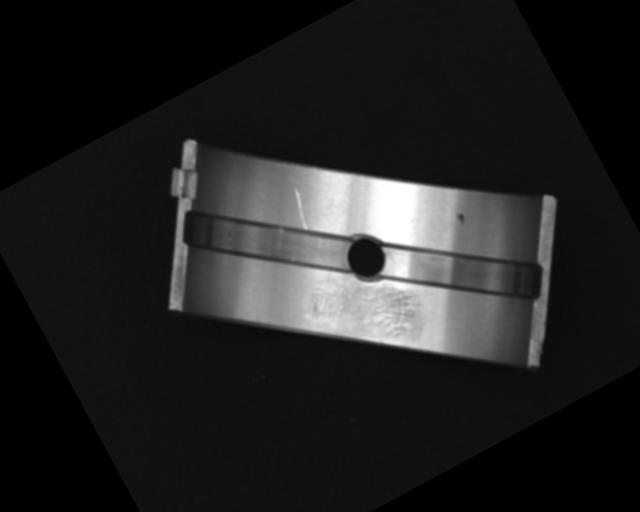bruise: (454, 210, 468, 227)
gap: (177, 155, 363, 325), (376, 189, 552, 352)
hole: (337, 228, 395, 286)
nick: (285, 187, 315, 230)
scratch: (295, 245, 426, 370)
